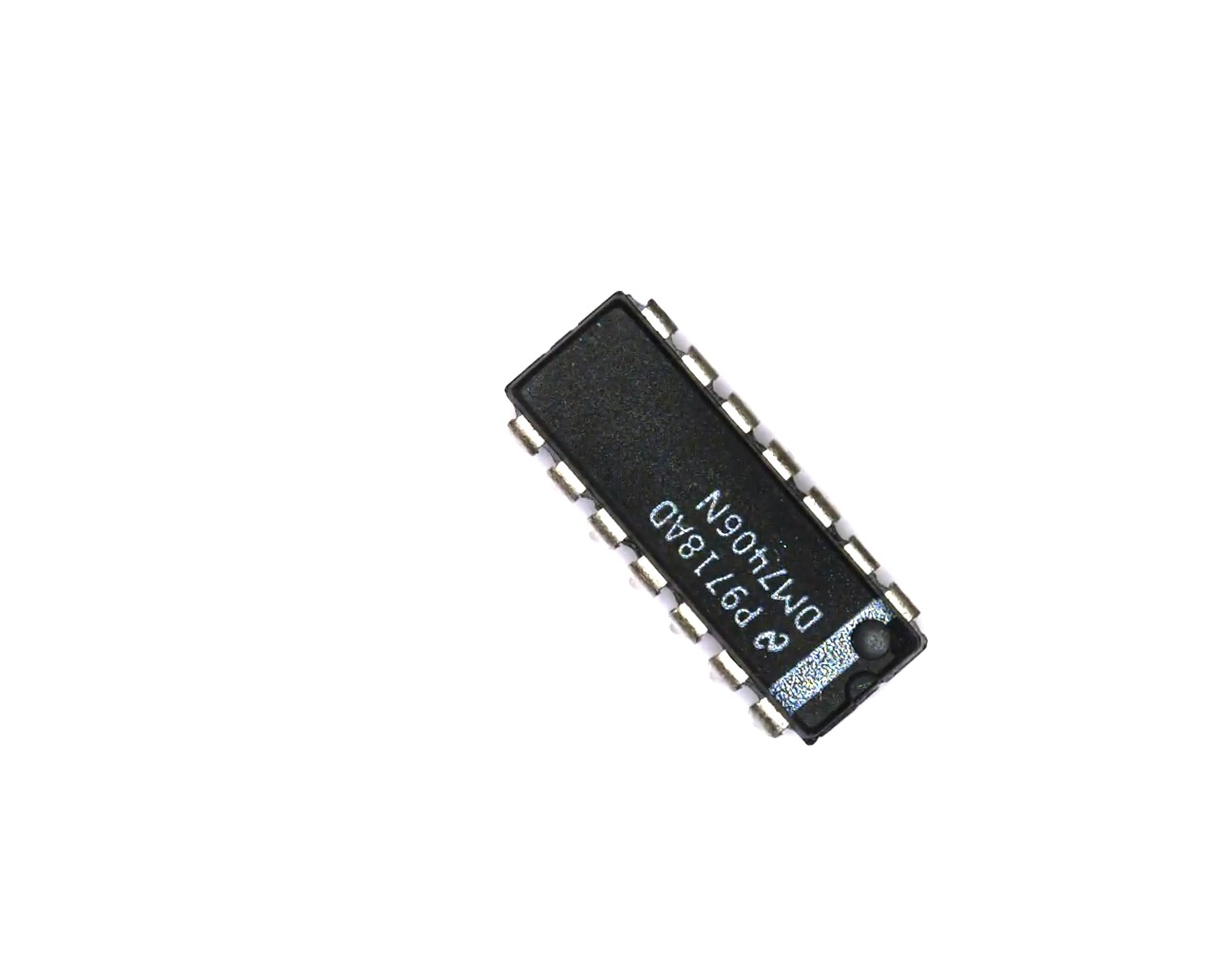IC: (463, 259, 968, 783)
notch: (841, 668, 886, 711)
